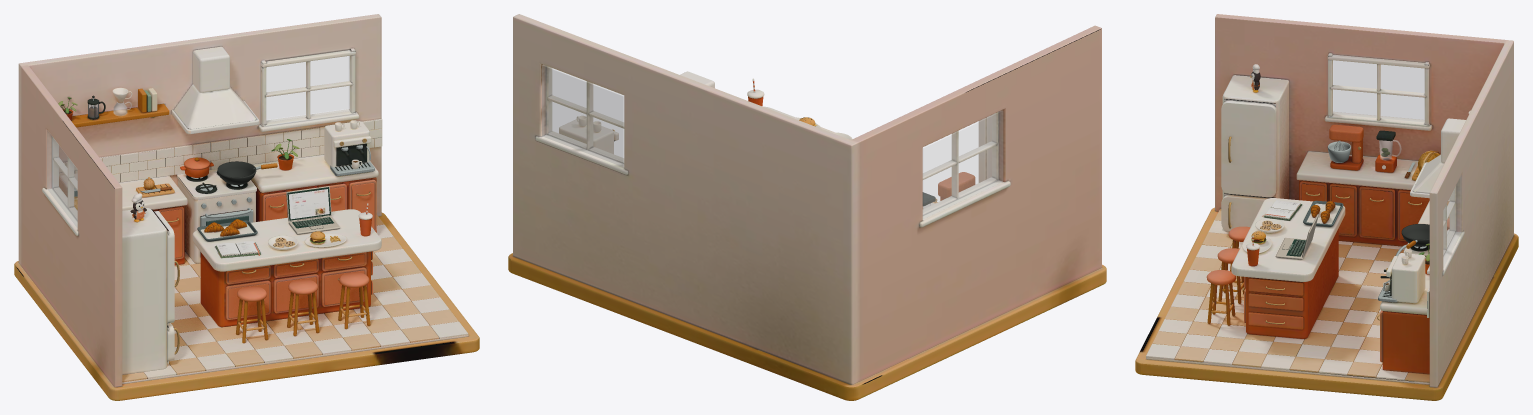
The model's file is kitchen.glb.
3 renders of one model, left to right at view 1: azimuth 30°, elevation 25°; view 2: azimuth 150°, elevation 25°; view 3: azimuth 270°, elevation 25°, orthographic. The views are drawn at different scales.
Visible parts, largest first — view 1: Baked kitchen architecture, Baked kitchen details, Live glass and reflective metal; view 2: Baked kitchen architecture, Live glass and reflective metal, Baked kitchen details; view 3: Baked kitchen architecture, Baked kitchen details, Live glass and reflective metal.
Part boxes in pixels (box(x1,y1,x2,y2)): Baked kitchen architecture: box(14, 14, 479, 400); Baked kitchen details: box(58, 46, 468, 382); Live glass and reflective metal: box(47, 56, 374, 354); Baked kitchen architecture: box(508, 14, 1106, 400); Live glass and reflective metal: box(542, 65, 1002, 218); Baked kitchen details: box(559, 71, 975, 208); Baked kitchen architecture: box(1135, 14, 1518, 400); Baked kitchen details: box(1146, 64, 1470, 382); Live glass and reflective metal: box(1228, 60, 1461, 324).
Bounding box in the file's own units: 15.98 × 8.38 × 14.11.
Materials: 9 (2 with a texture image).
